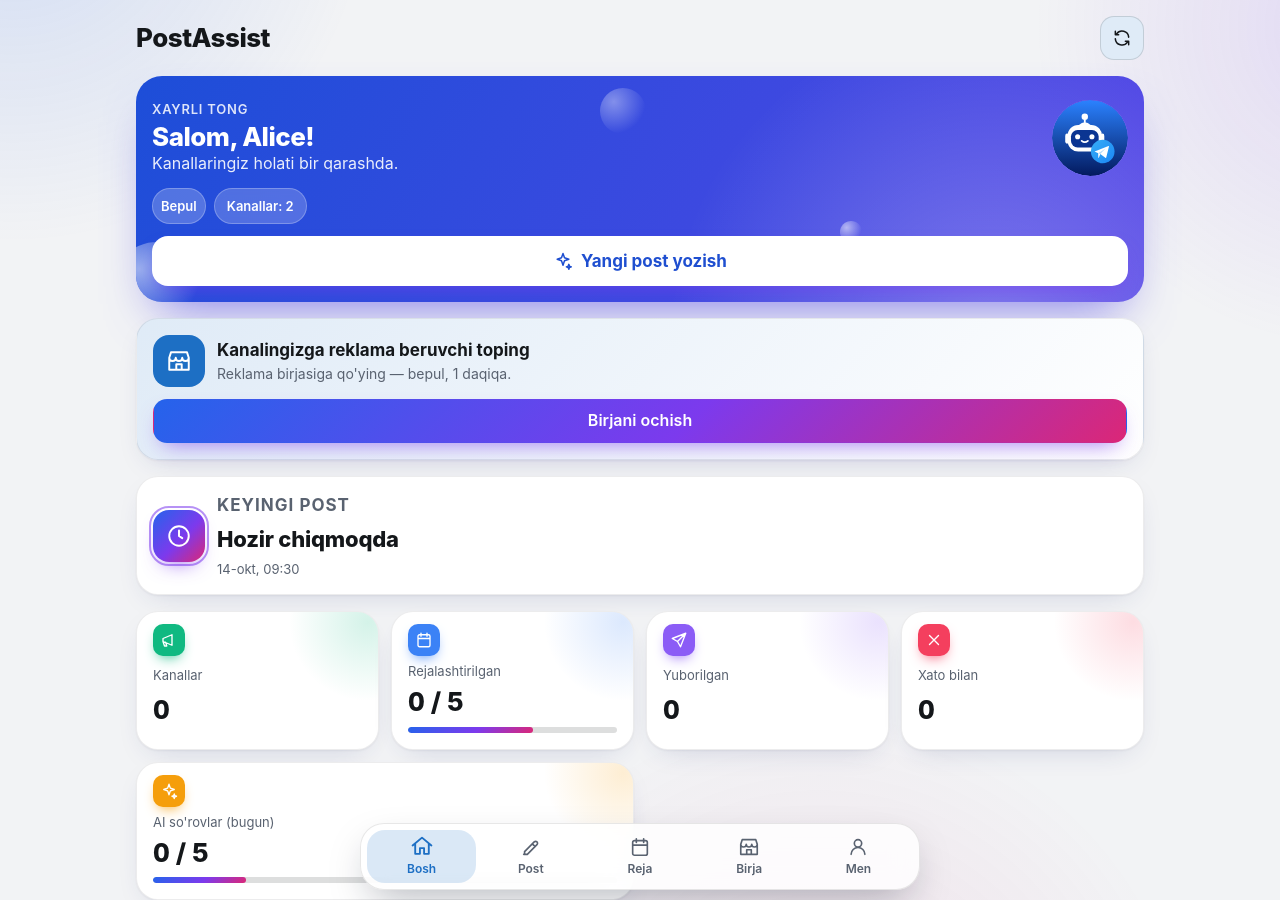
it: Post yaratish › forma kanallar bilan chiqadi, kanal tanlanmaguncha yuborilmaydi
This screenshot has width=1280, height=900.
Expected: the heading "Salom, Alice!" is shown, [152,121,314,152]
Step 1. Click the button "Post" → (531, 856), box [476,830,585,883]
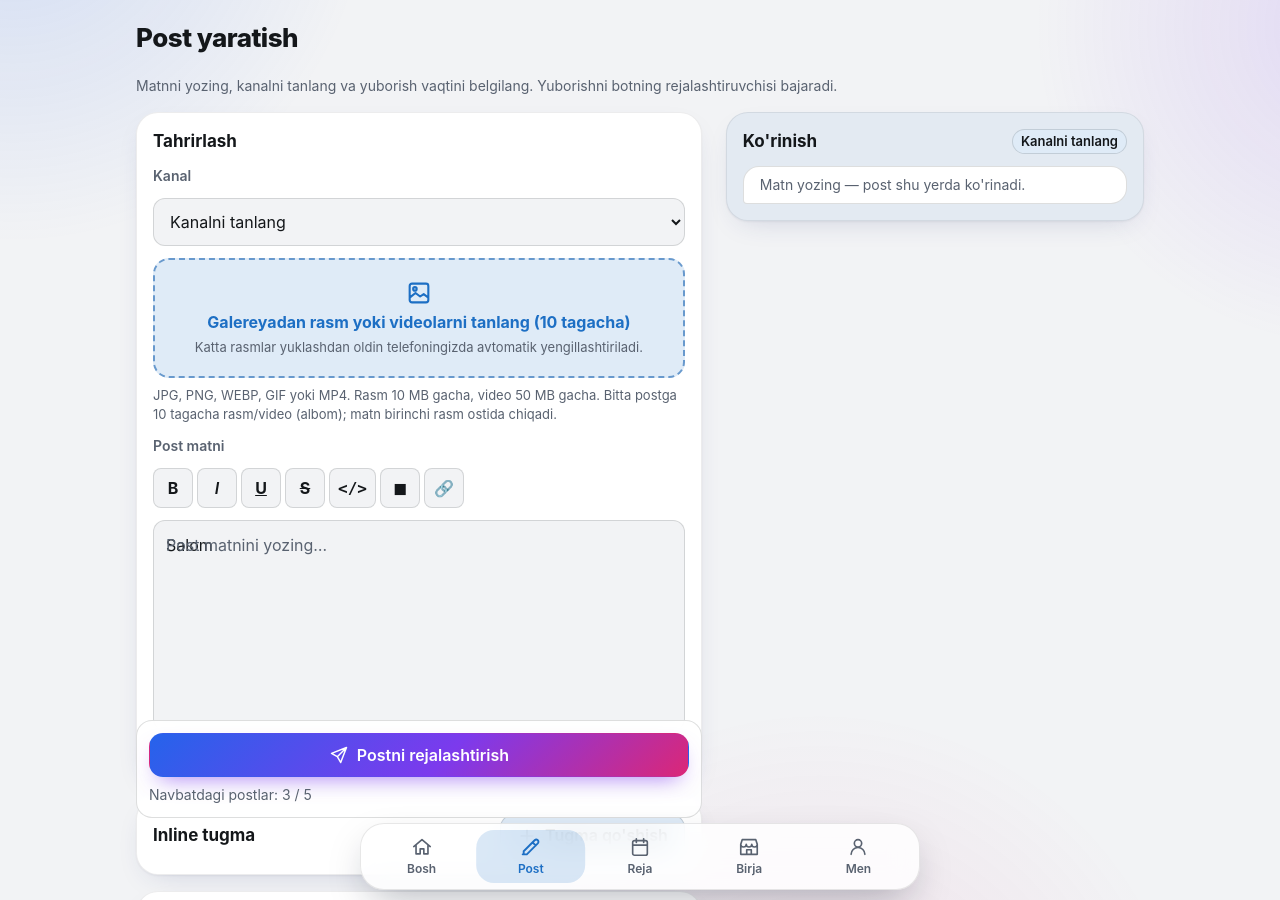
Step 2. Clear the field named "Post matni" → (419, 626), box [153,520,685,731]
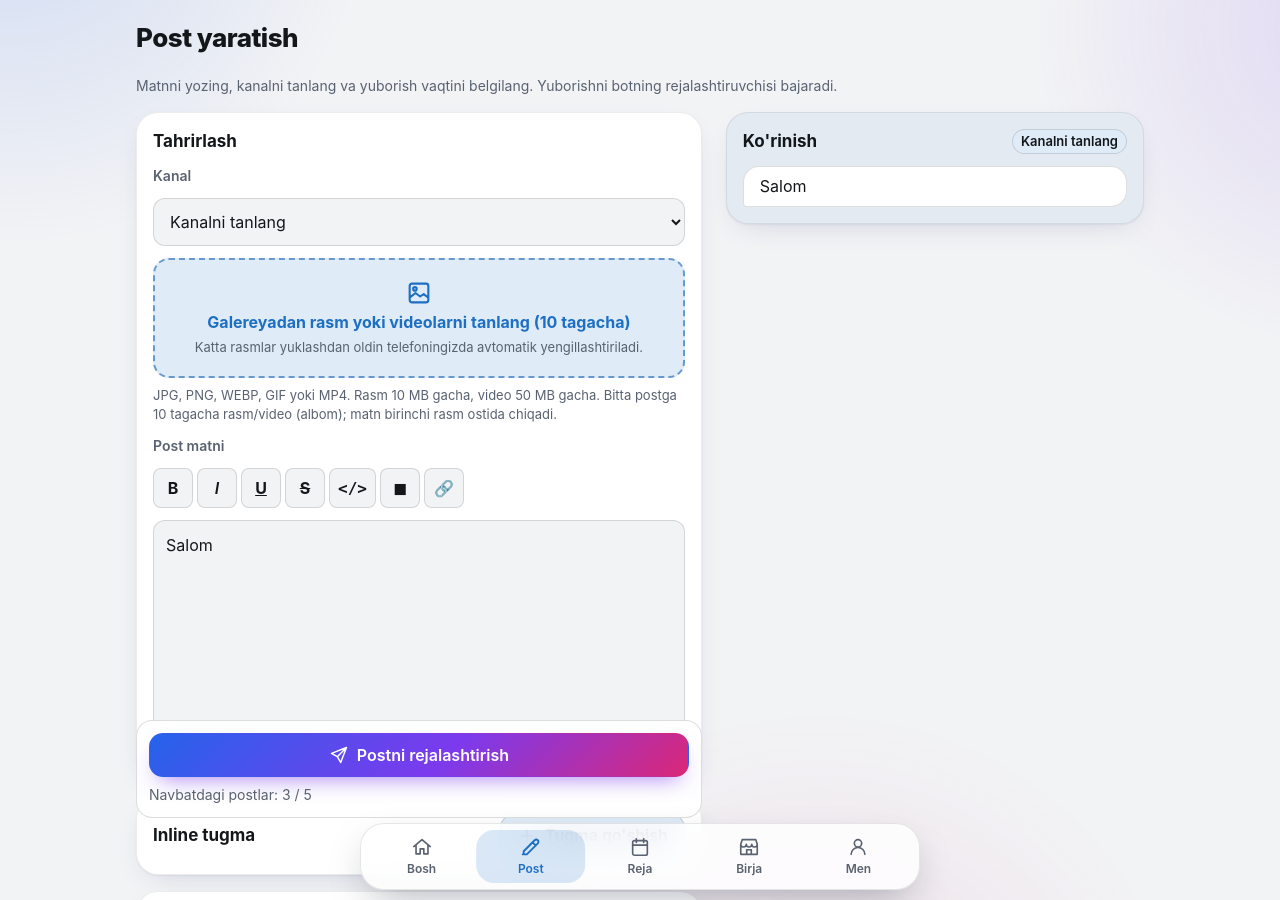
Step 3. Click the button "Postni rejalashtirish" → (419, 755), box [149,733,689,777]
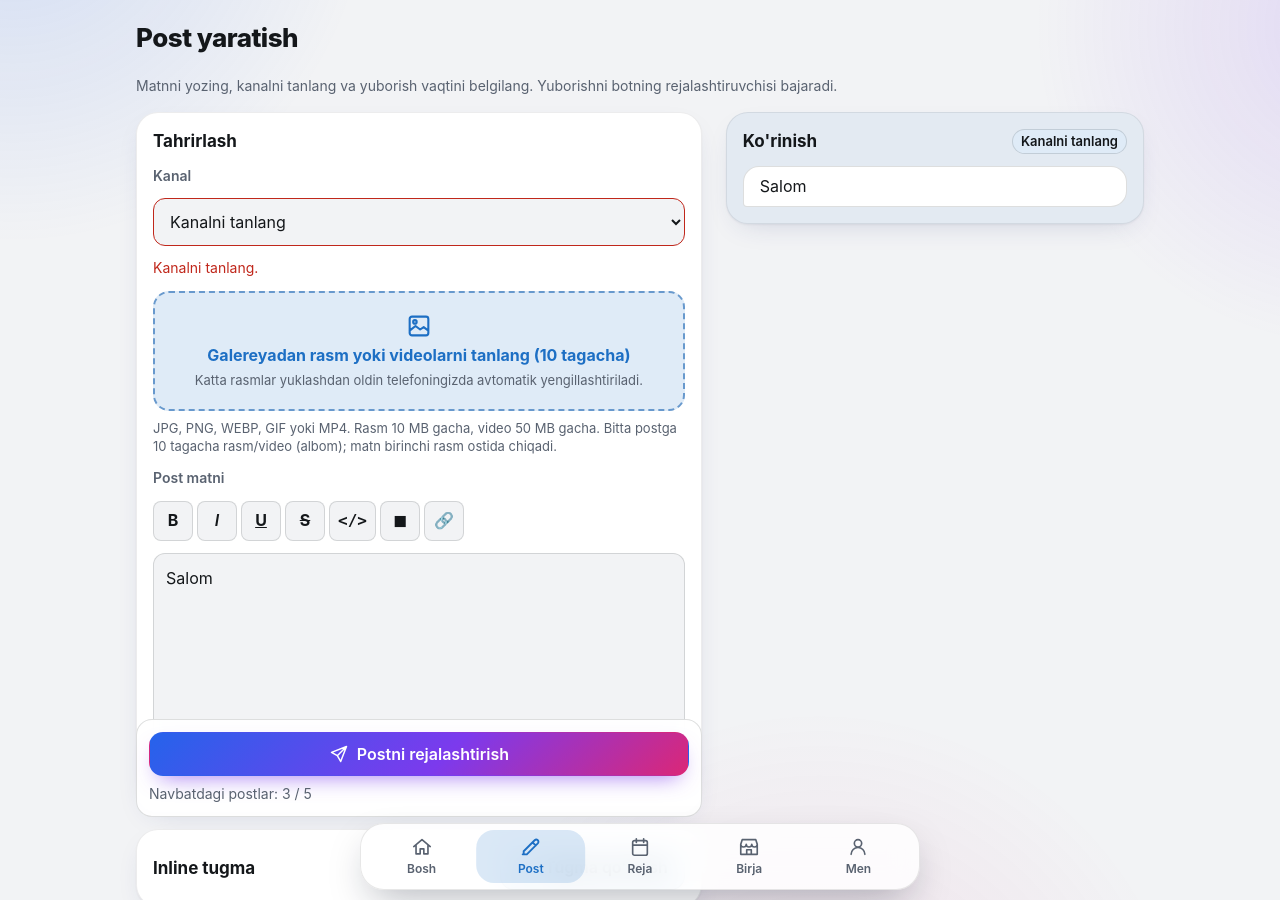
Expected: the text "Kanalni tanlang." is shown, [153,259,258,276]
